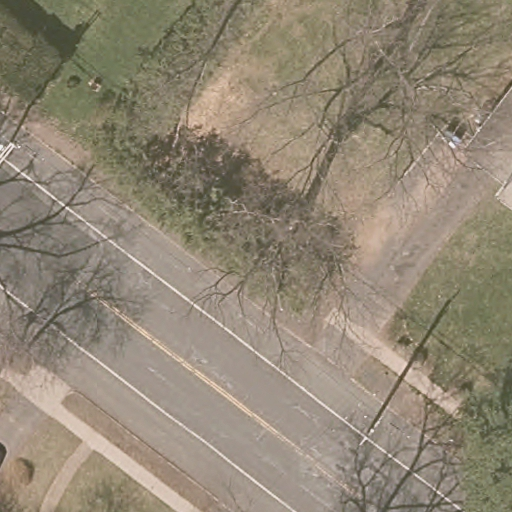DT: (1, 136, 20, 164)
